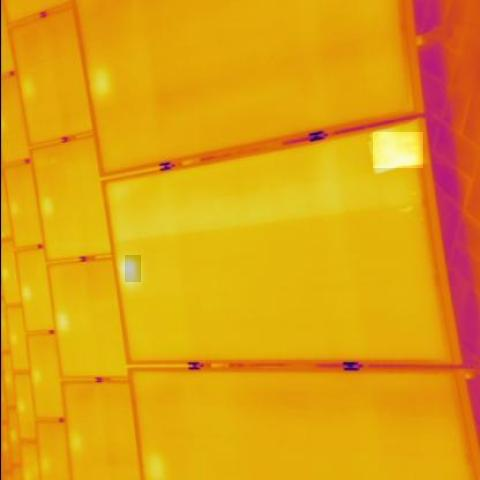fault: (373, 132, 423, 168), (126, 255, 142, 282)
